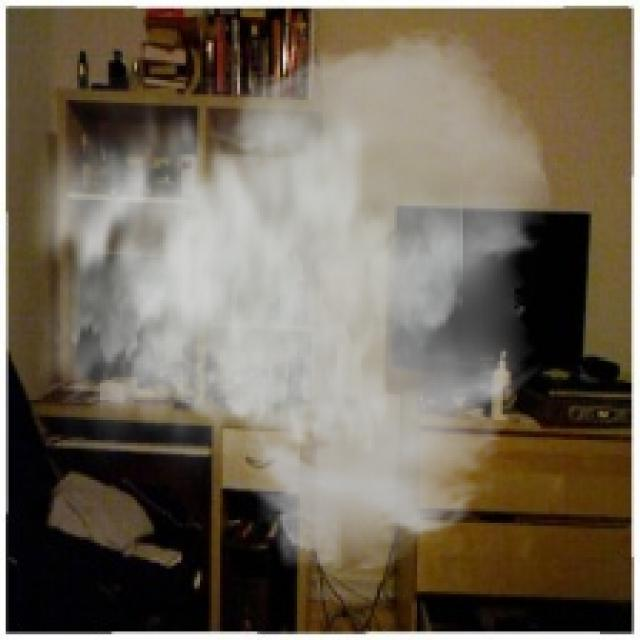Smoke: (2, 22, 554, 578)
